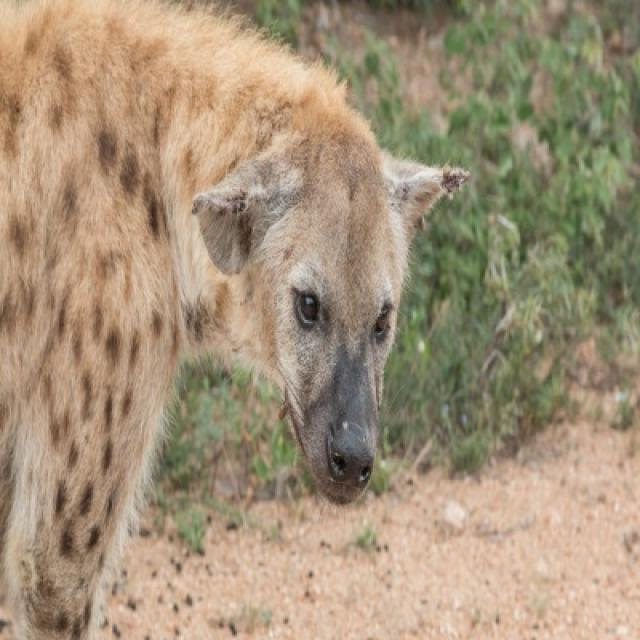hyena: (0, 0, 467, 638)
